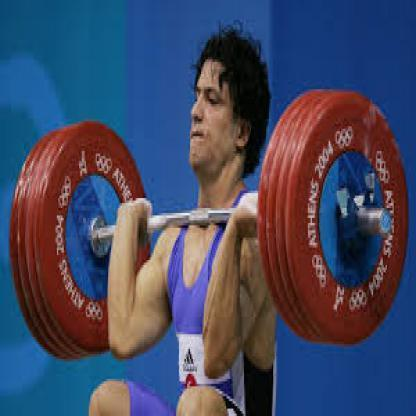barbell: (7, 87, 412, 362)
